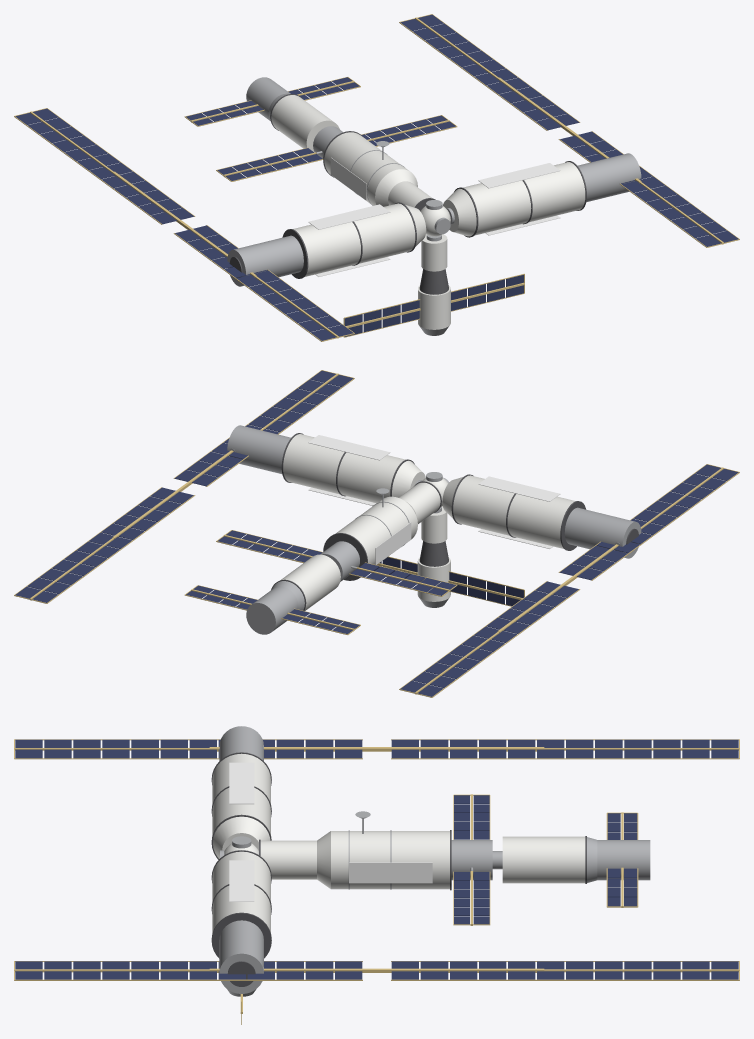
The model's file is tiangong.glb.
3 views of the same model, one above another, from view 1: azimuth 30°, elevation 25°; view 2: azimuth 150°, elevation 25°; view 3: azimuth 270°, elevation 25° (orthographic). The views are drawn at different scales.
Parts seen in each view (by area): view 1: Tiangong schematic, metres; view 2: Tiangong schematic, metres; view 3: Tiangong schematic, metres.
Part boxes in pixels (x1=…): Tiangong schematic, metres: x1=14, y1=14, x2=739, y2=341; Tiangong schematic, metres: x1=14, y1=370, x2=739, y2=697; Tiangong schematic, metres: x1=14, y1=726, x2=739, y2=1024.
Size of the model in its own units: 0.7848 by 0.2689 by 1.
